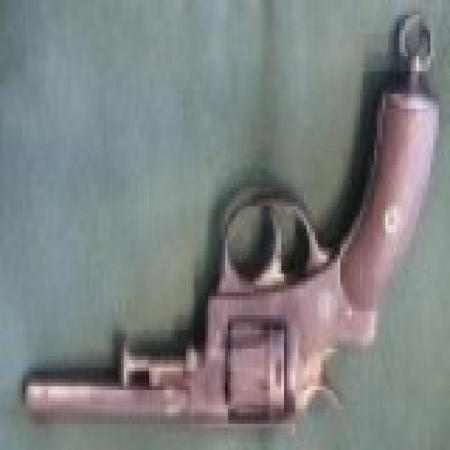Pistol: (17, 90, 433, 442)
